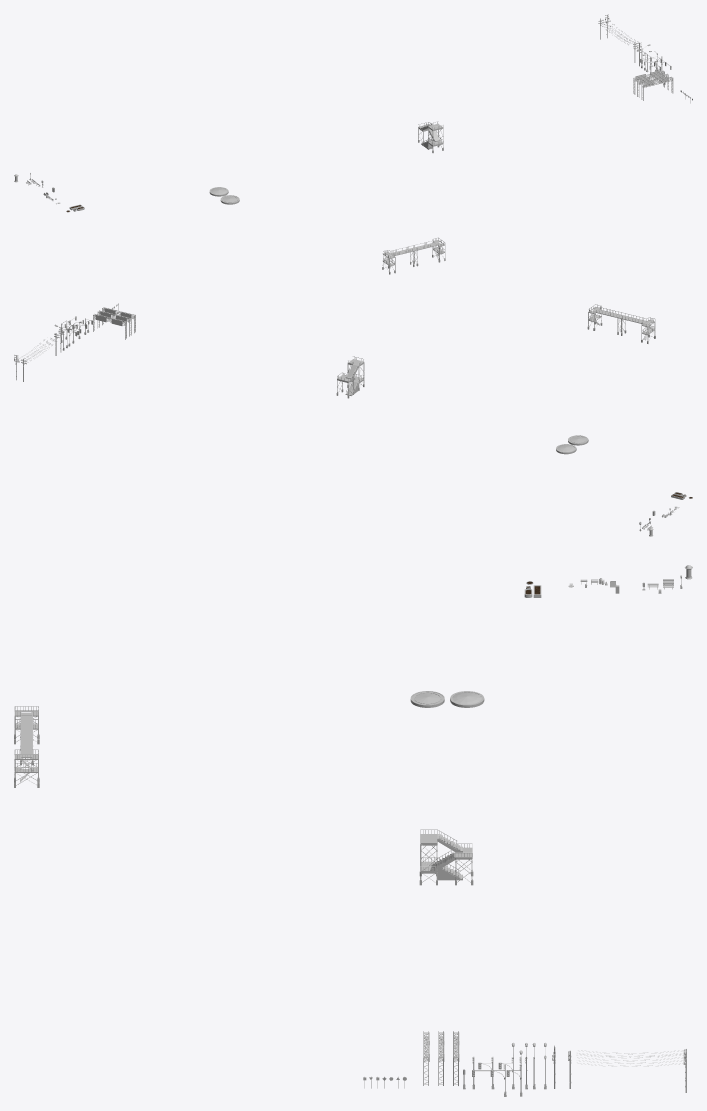
Rendered from StreetProps.FBX.
The picture shows the model from 3 angles, top to bottom: view 1: azimuth 30°, elevation 25°; view 2: azimuth 150°, elevation 25°; view 3: azimuth 270°, elevation 25°; orthographic projection. The views are drawn at different scales.
Visible parts, largest first — view 1: Overpass_A, Overpass_B; view 2: Overpass_A, Overpass_B; view 3: Overpass_B, Overpass_A.
Boxes of the visible parts, box(x1,y1,x2,y2) form: Overpass_A: box(382, 237, 445, 274); Overpass_B: box(418, 121, 443, 153); Overpass_A: box(587, 304, 655, 343); Overpass_B: box(336, 356, 364, 398); Overpass_B: box(419, 829, 473, 885); Overpass_A: box(14, 706, 39, 787).
Bounding box in the file's own units: 28259 × 1169 × 15572.
